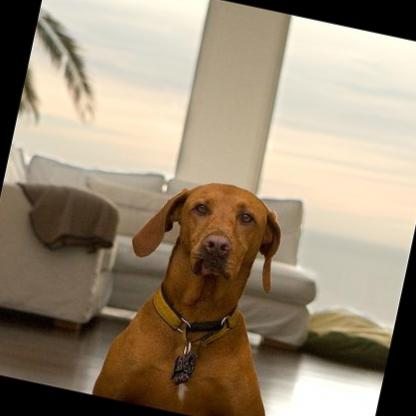vizsla: (89, 159, 314, 416)
